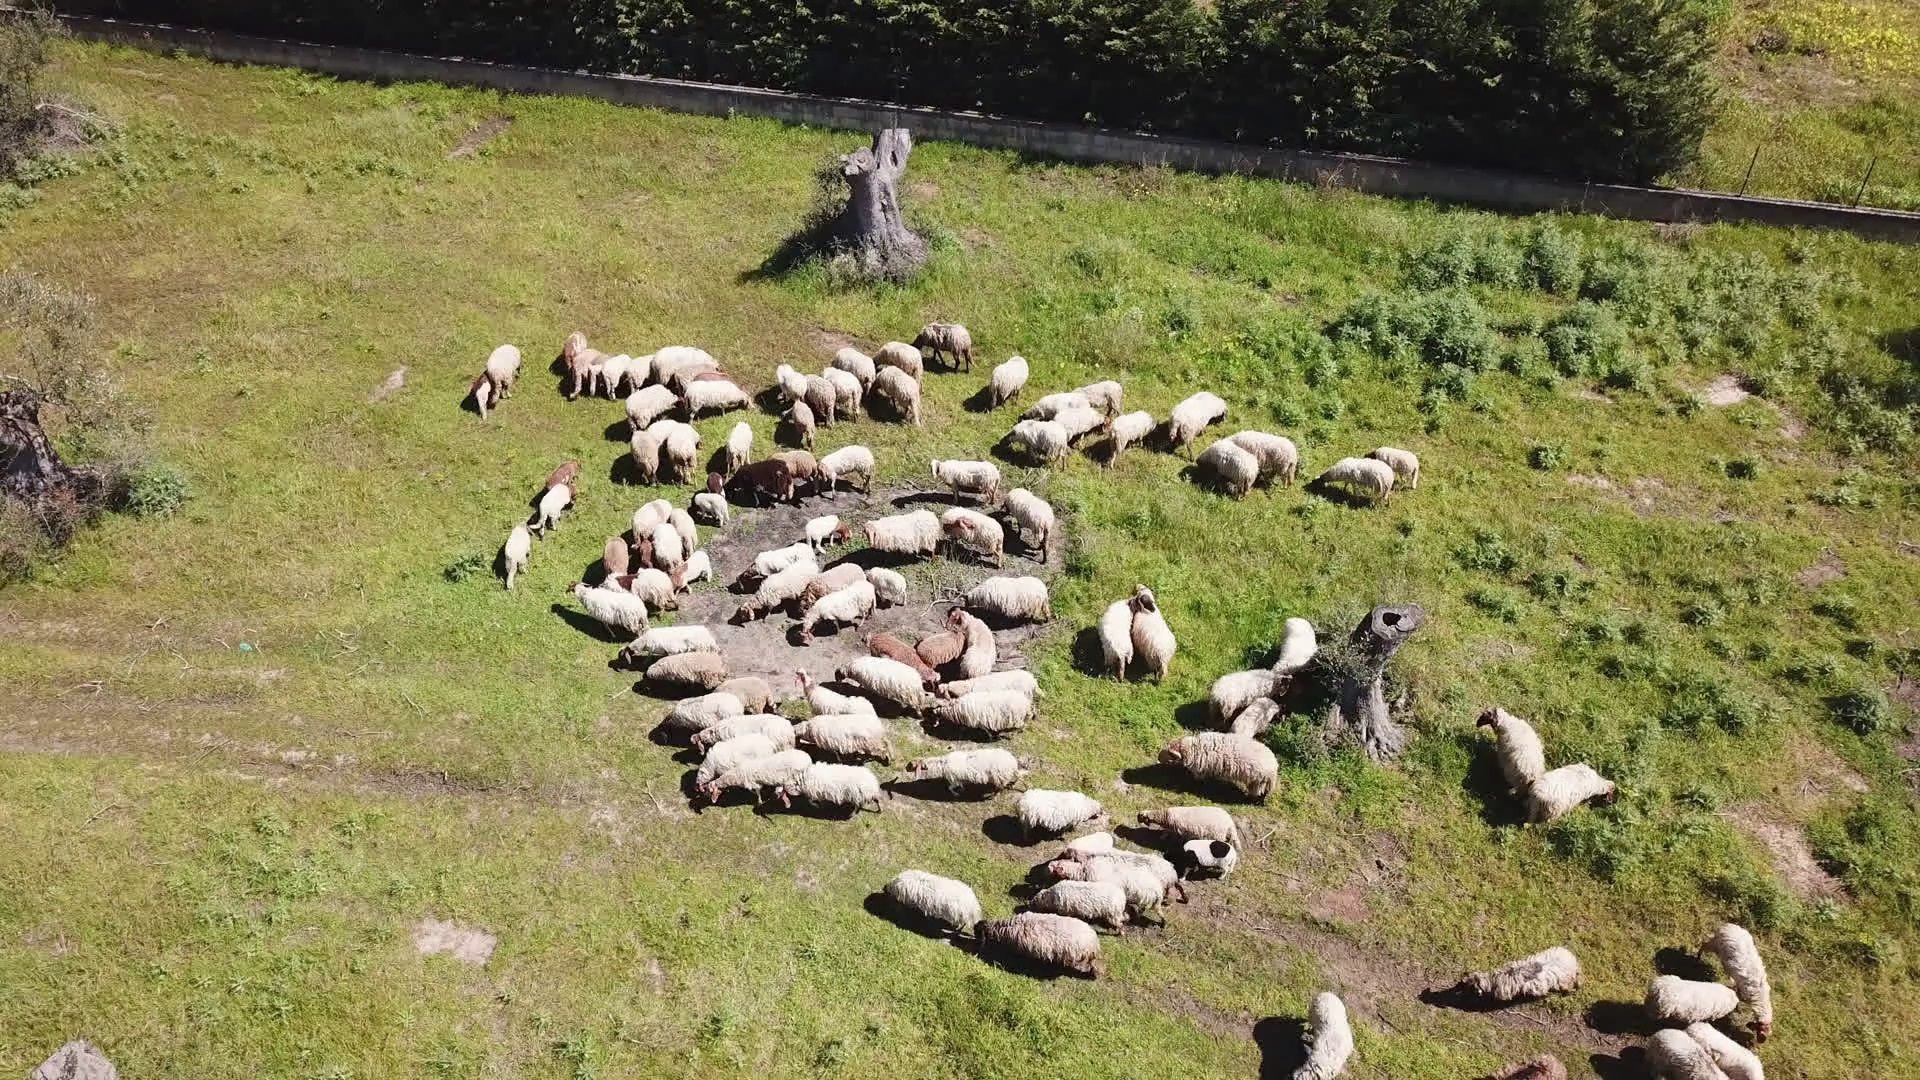sheep: (1135, 724, 1280, 796), (878, 866, 1002, 942), (773, 760, 905, 829), (698, 746, 819, 822), (998, 901, 1104, 984), (1709, 916, 1780, 1036), (1462, 947, 1590, 1013), (1034, 845, 1164, 909), (694, 709, 803, 778), (1017, 779, 1130, 844), (1091, 584, 1166, 680), (655, 684, 756, 756), (1064, 832, 1197, 884), (919, 745, 1025, 807), (1519, 761, 1622, 824), (558, 583, 659, 645), (1286, 988, 1353, 1080), (794, 709, 886, 777), (702, 738, 800, 800), (1669, 1015, 1774, 1073), (1476, 707, 1548, 790), (1226, 421, 1317, 487), (617, 618, 717, 678), (1312, 451, 1408, 512), (1035, 872, 1149, 920), (1636, 971, 1741, 1022), (860, 622, 943, 684), (796, 663, 880, 724), (994, 484, 1063, 556), (1209, 659, 1300, 713), (935, 651, 1042, 696), (938, 510, 1019, 568), (858, 513, 945, 566), (795, 579, 884, 630), (944, 607, 1000, 686), (1639, 1021, 1712, 1080), (1133, 591, 1183, 676), (972, 570, 1058, 620), (1145, 806, 1246, 848), (814, 364, 878, 429), (938, 694, 1042, 733), (764, 447, 844, 497), (1196, 434, 1259, 497), (1160, 386, 1228, 446), (1234, 687, 1305, 742), (1261, 612, 1317, 679), (984, 353, 1048, 411), (1356, 438, 1428, 489), (742, 541, 816, 589), (1006, 414, 1076, 465), (910, 320, 975, 372), (1176, 832, 1240, 884), (926, 455, 1000, 498), (816, 443, 884, 491), (497, 521, 541, 593), (621, 351, 669, 415), (1104, 407, 1158, 464), (835, 340, 894, 392), (479, 342, 525, 407), (1030, 390, 1097, 435), (651, 649, 725, 688), (744, 564, 806, 611), (733, 455, 787, 506), (862, 332, 923, 377), (802, 559, 864, 603), (680, 381, 765, 413), (651, 345, 720, 382), (562, 348, 609, 401), (666, 415, 702, 484), (1062, 378, 1127, 415), (880, 363, 924, 417), (800, 376, 852, 422), (713, 679, 775, 716), (778, 359, 818, 415), (537, 483, 579, 531), (632, 497, 673, 547), (621, 386, 676, 423), (665, 551, 713, 591), (915, 630, 969, 666), (789, 398, 832, 439), (600, 355, 637, 401), (673, 512, 705, 563), (630, 427, 666, 473), (651, 522, 683, 574), (695, 491, 732, 533), (866, 564, 909, 601), (796, 520, 843, 553), (600, 531, 622, 589), (727, 415, 752, 467), (546, 460, 580, 485)
